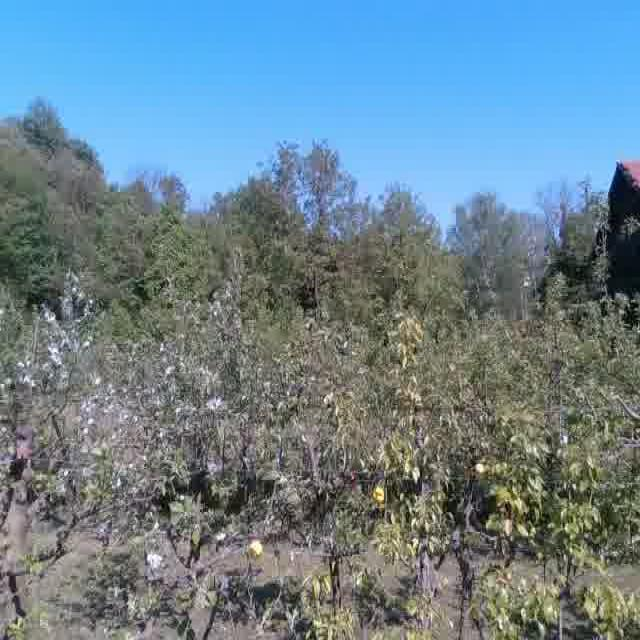yellow: (370, 486, 390, 508), (246, 535, 264, 559)
